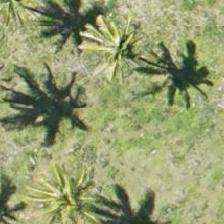coconut_tree: (74, 0, 164, 89), (27, 151, 117, 223)
